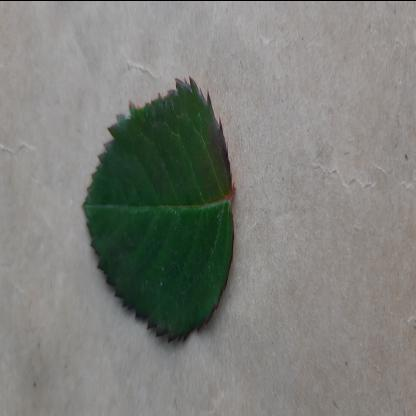normal: (80, 69, 235, 344)
